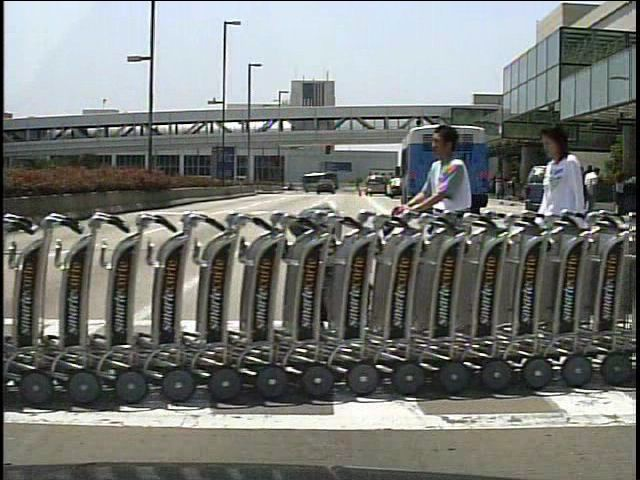person: (392, 122, 489, 365), (528, 116, 598, 329), (582, 165, 603, 215), (579, 163, 597, 218), (355, 176, 363, 196)
